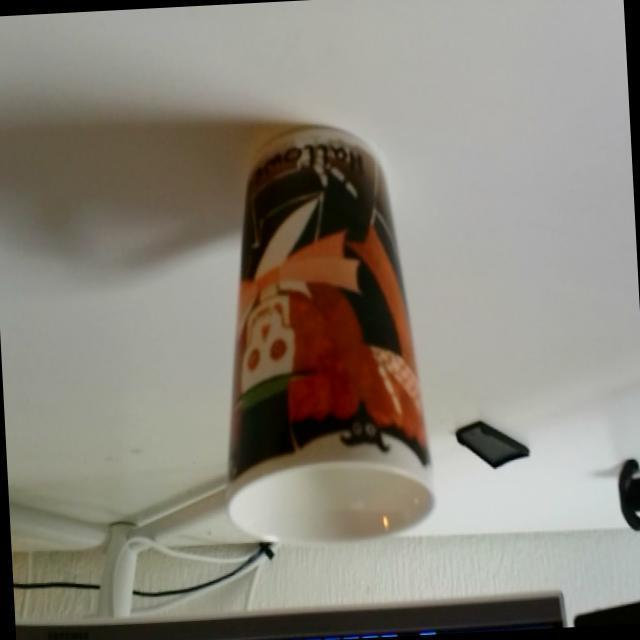cup: (206, 130, 442, 563)
